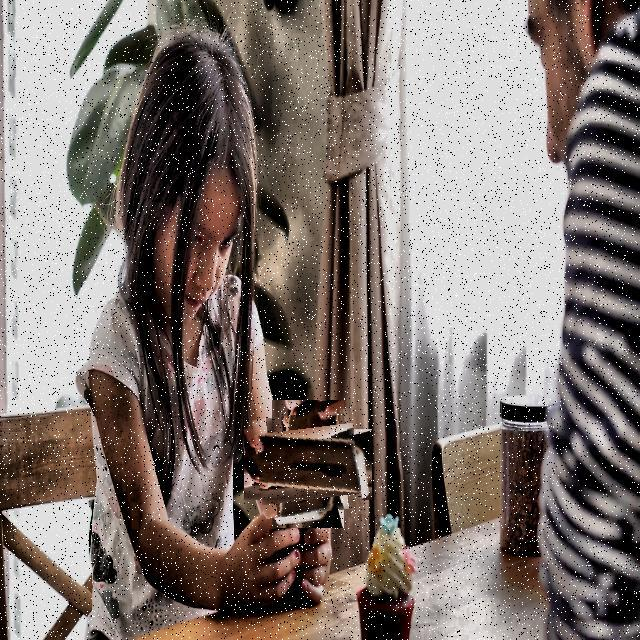Phone: (256, 411, 360, 517)
